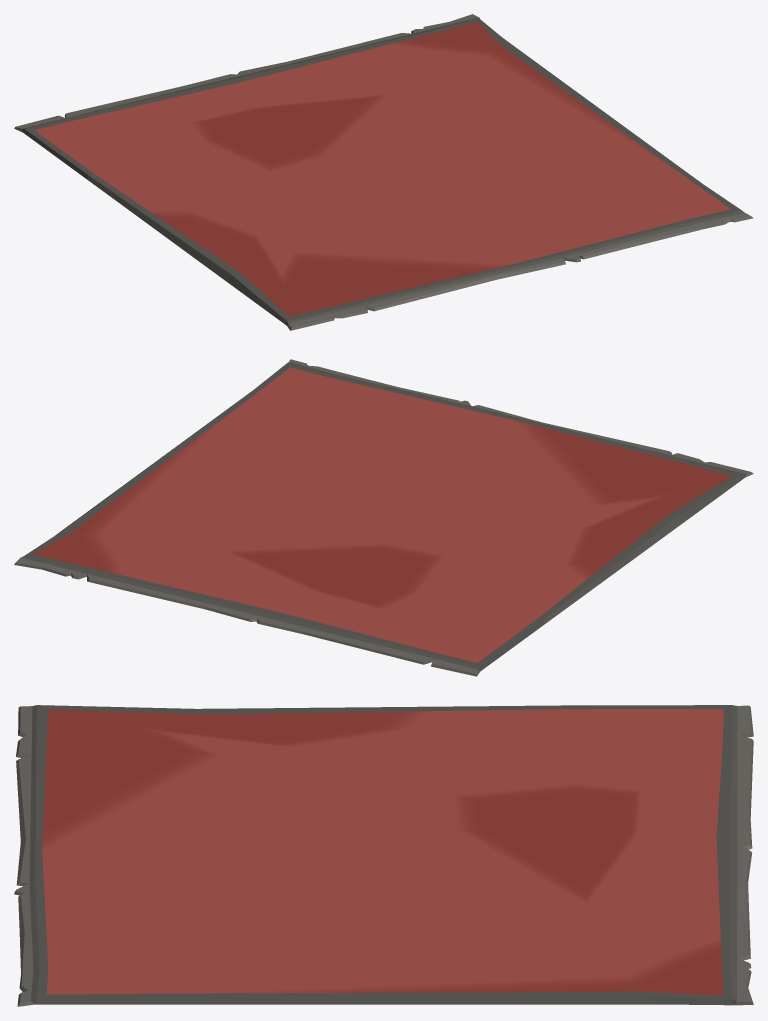
The model's file is SM_Prop_Rug_02.fbx.
3 renders of one model, top to bottom at view 1: azimuth 30°, elevation 25°; view 2: azimuth 150°, elevation 25°; view 3: azimuth 270°, elevation 25°, orthographic. The views are drawn at different scales.
Parts seen in each view (by area): view 1: SM_Prop_Rug_02; view 2: SM_Prop_Rug_02; view 3: SM_Prop_Rug_02.
Boxes of the visible parts, x1,y1,x2,y2 form: SM_Prop_Rug_02: [14, 14, 753, 330]; SM_Prop_Rug_02: [14, 359, 753, 676]; SM_Prop_Rug_02: [14, 705, 753, 1006].
Bounding box in the file's own units: 395 × 3 × 413.
